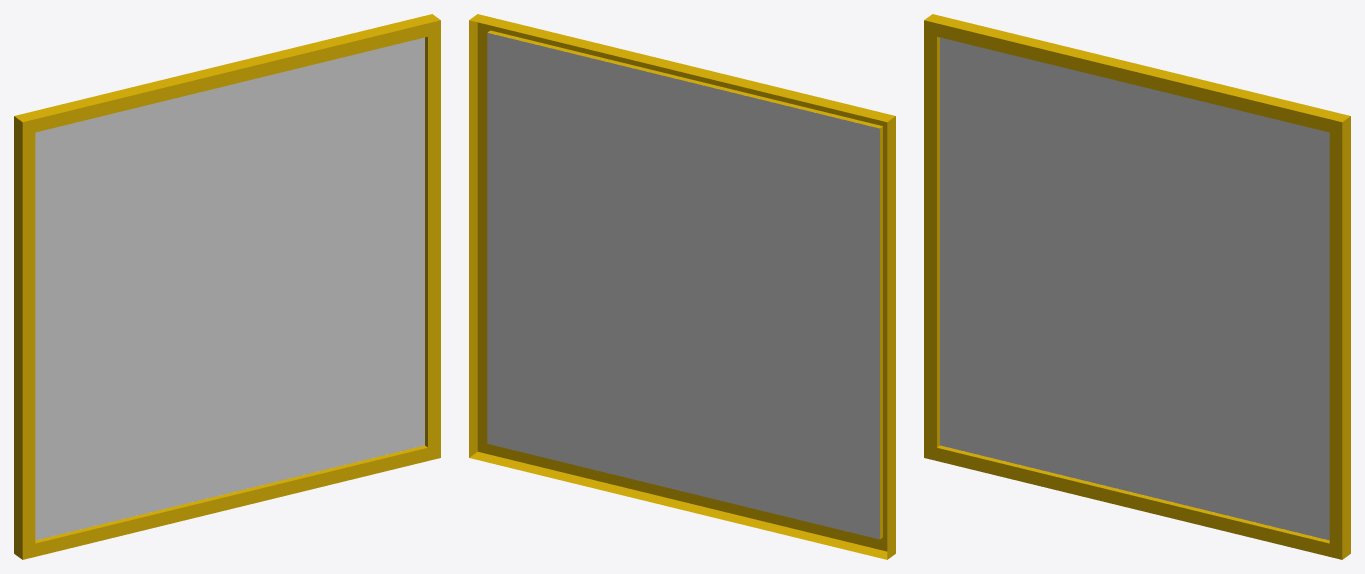
The model's file is Frame_square.glb.
3 renders of one model, left to right at view 1: azimuth 30°, elevation 25°; view 2: azimuth 150°, elevation 25°; view 3: azimuth 330°, elevation 25°, orthographic.
Parts seen in each view (by area): view 1: Frame_square; view 2: Frame_square; view 3: Frame_square.
Part boxes in pixels (left/top/right/bottom): Frame_square: left=14, top=14, right=440, bottom=559; Frame_square: left=469, top=14, right=895, bottom=559; Frame_square: left=924, top=14, right=1350, bottom=559.
Bounding box in the file's own units: 2 × 2 × 0.0707.
